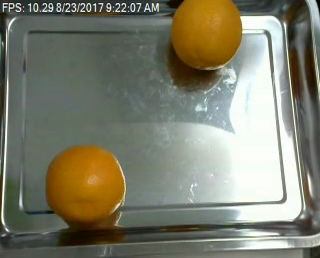Orange: (46, 143, 126, 224), (169, 1, 242, 70)
